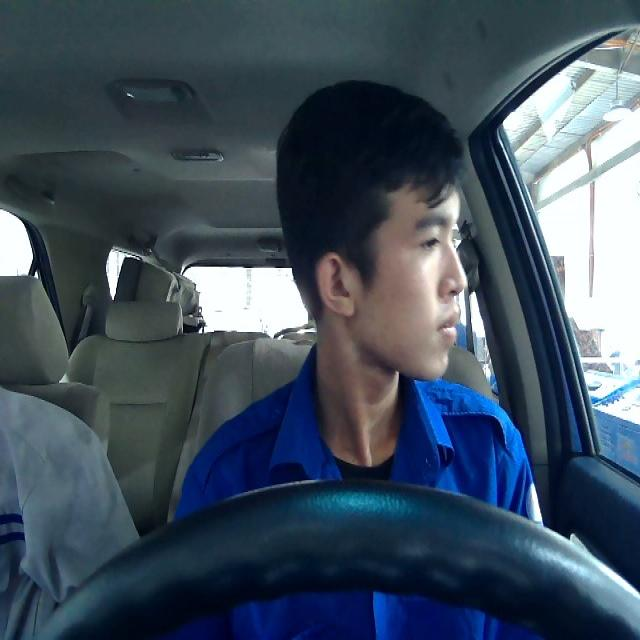seeing_right: (312, 175, 469, 381)
